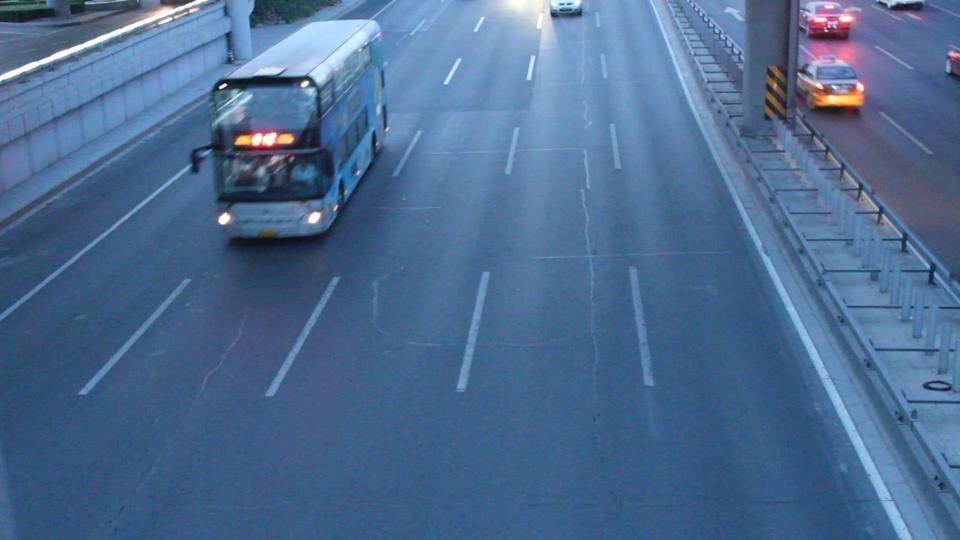car: (797, 57, 866, 113), (799, 1, 859, 39), (549, 0, 583, 18), (945, 43, 960, 78)
